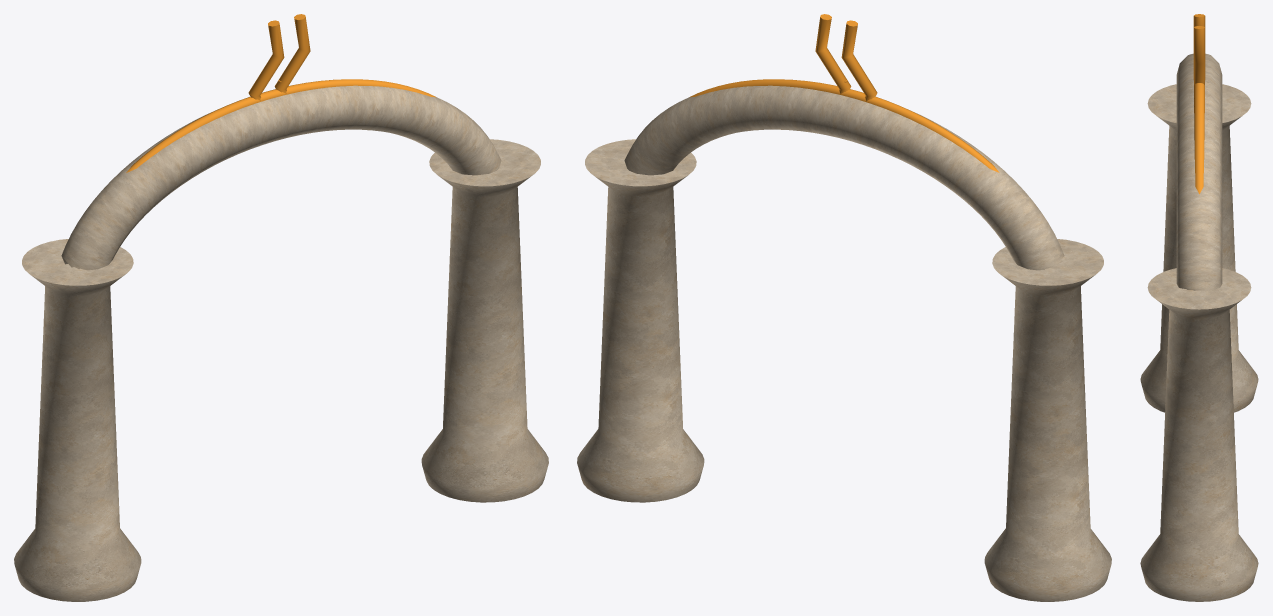
Rendered from 08_Portico_Arco.obj.
3 renders of one model, left to right at view 1: azimuth 30°, elevation 25°; view 2: azimuth 150°, elevation 25°; view 3: azimuth 270°, elevation 25°, orthographic. The views are drawn at different scales.
Parts seen in each view (by area): view 1: Arco_transitable, Emblema; view 2: Arco_transitable, Emblema; view 3: Arco_transitable, Emblema.
Boxes of the visible parts, x1,y1,x2,y2 form: Arco_transitable: (14,79,548,601); Emblema: (248,14,310,100); Arco_transitable: (577,79,1111,601); Emblema: (815,14,877,101); Arco_transitable: (1140,53,1258,601); Emblema: (1193,14,1205,85).
Size of the model in its own units: 5.34 by 4.99 by 1.14.
